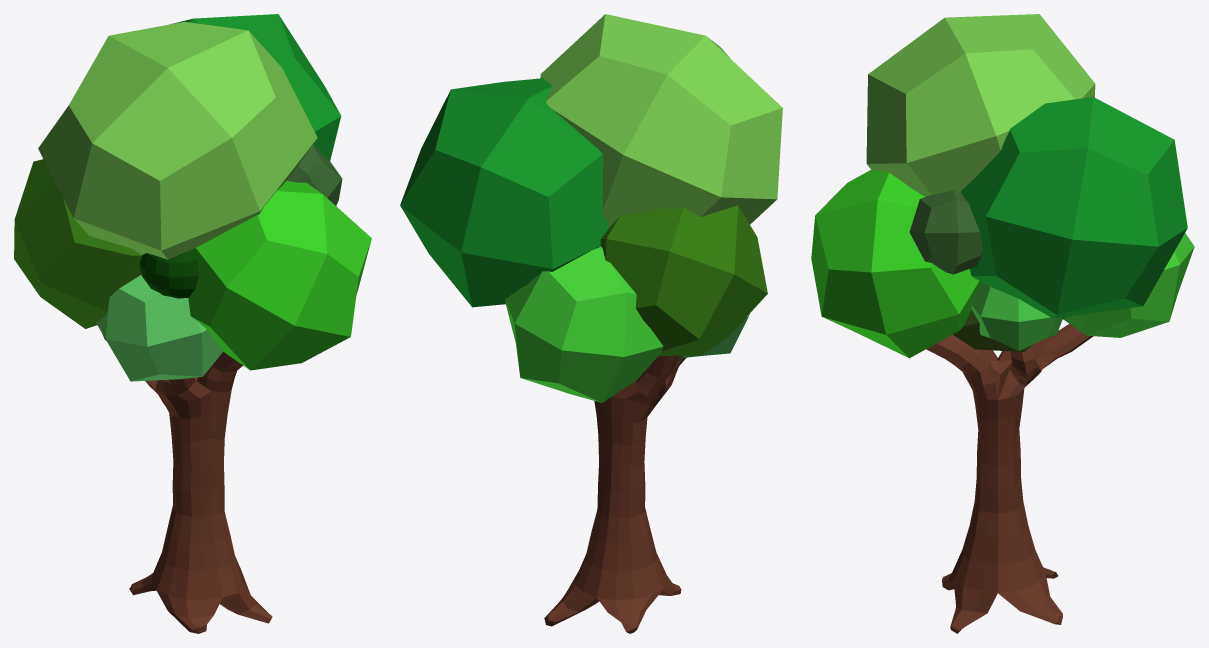
Rendered from Tree 1.fbx.
3 renders of one model, left to right at view 1: azimuth 30°, elevation 25°; view 2: azimuth 150°, elevation 25°; view 3: azimuth 270°, elevation 25°, orthographic. The views are drawn at different scales.
Visible parts, largest first — view 1: Cube.005, Cube.002, Cube, Cube.001, Cube.003, Cube.006, Cube.009, Cube.007; view 2: Cube.005, Cube.006, Cube.001, Cube.004, Cube, Cube.003; view 3: Cube.006, Cube.005, Cube.002, Cube, Cube.007, Cube.004, Cube.008, Cube.010.
Boxes of the visible parts, x1=… form: Cube.005: x1=38, y1=21, x2=317, y2=259; Cube.002: x1=188, y1=180, x2=371, y2=370; Cube: x1=102, y1=334, x2=272, y2=633; Cube.001: x1=14, y1=159, x2=142, y2=328; Cube.003: x1=96, y1=274, x2=223, y2=381; Cube.006: x1=172, y1=14, x2=341, y2=160; Cube.009: x1=139, y1=248, x2=198, y2=298; Cube.007: x1=287, y1=145, x2=342, y2=205; Cube.005: x1=540, y1=14, x2=782, y2=226; Cube.006: x1=400, y1=78, x2=609, y2=307; Cube.001: x1=600, y1=205, x2=767, y2=355; Cube.004: x1=505, y1=246, x2=663, y2=402; Cube: x1=544, y1=355, x2=686, y2=633; Cube.003: x1=682, y1=313, x2=749, y2=357; Cube.006: x1=961, y1=97, x2=1187, y2=318; Cube.005: x1=866, y1=14, x2=1095, y2=196; Cube.002: x1=811, y1=170, x2=980, y2=358; Cube: x1=926, y1=324, x2=1092, y2=633; Cube.007: x1=909, y1=190, x2=982, y2=274; Cube.004: x1=1063, y1=233, x2=1194, y2=337; Cube.008: x1=971, y1=282, x2=1062, y2=350; Cube.010: x1=953, y1=309, x2=1065, y2=352.
Size of the model in its own units: 489 by 872 by 528.
